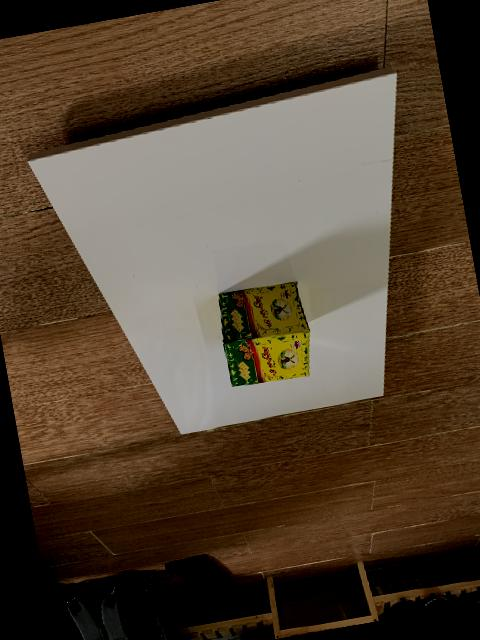luong_kho: (216, 277, 310, 383)
